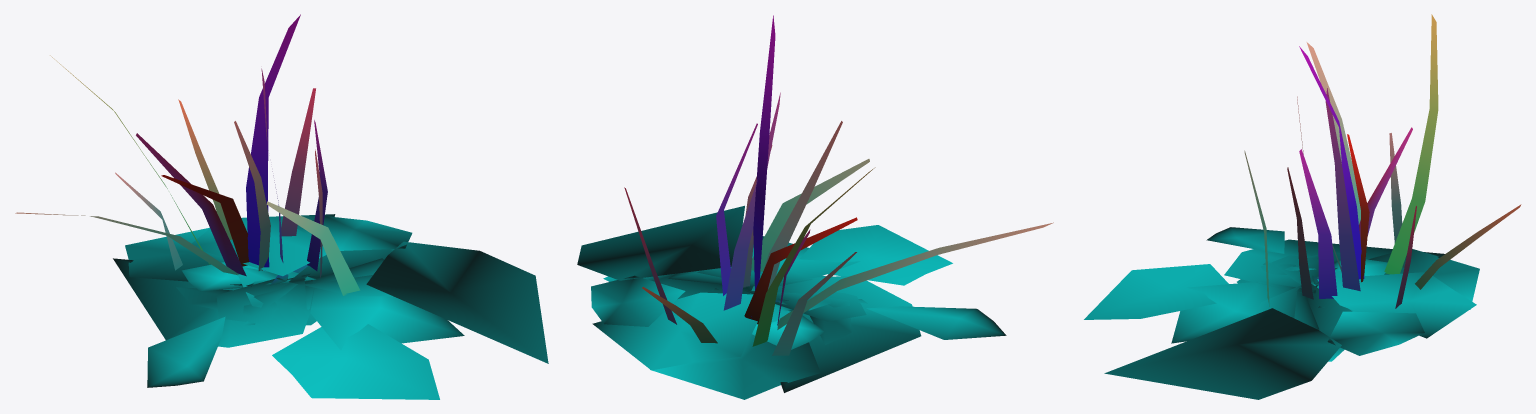
File: Wild_Grass_vczndjqja_Mid_vczndjqja_VarC_LOD1.fbx
The picture shows the model from 3 angles, left to right: view 1: azimuth 30°, elevation 25°; view 2: azimuth 150°, elevation 25°; view 3: azimuth 270°, elevation 25°; orthographic projection. The views are drawn at different scales.
Parts seen in each view (by area): view 1: _rzvc_VarC_LOD2; view 2: _rzvc_VarC_LOD2; view 3: _rzvc_VarC_LOD2.
Boxes of the visible parts, x1,y1,x2,y2 form: _rzvc_VarC_LOD2: (15,14,548,399); _rzvc_VarC_LOD2: (577,15,1053,399); _rzvc_VarC_LOD2: (1084,14,1521,399).
Size of the model in its own units: 54.57 by 31.99 by 47.27.
